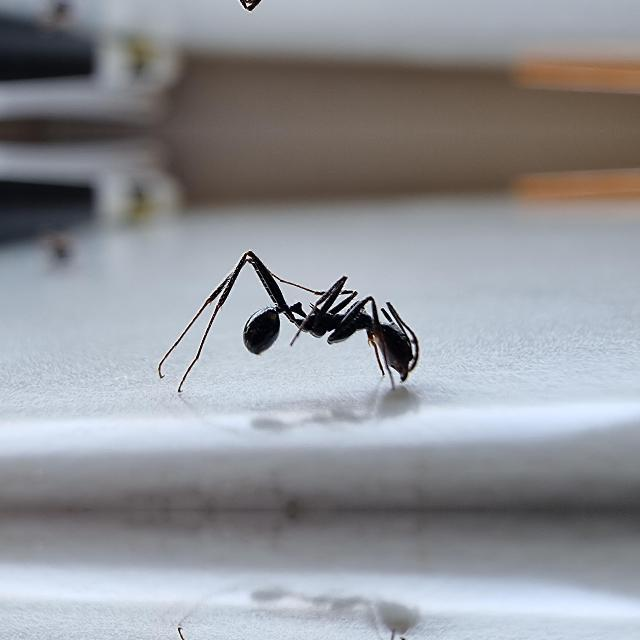Apheanogaster: (192, 254, 440, 380)
